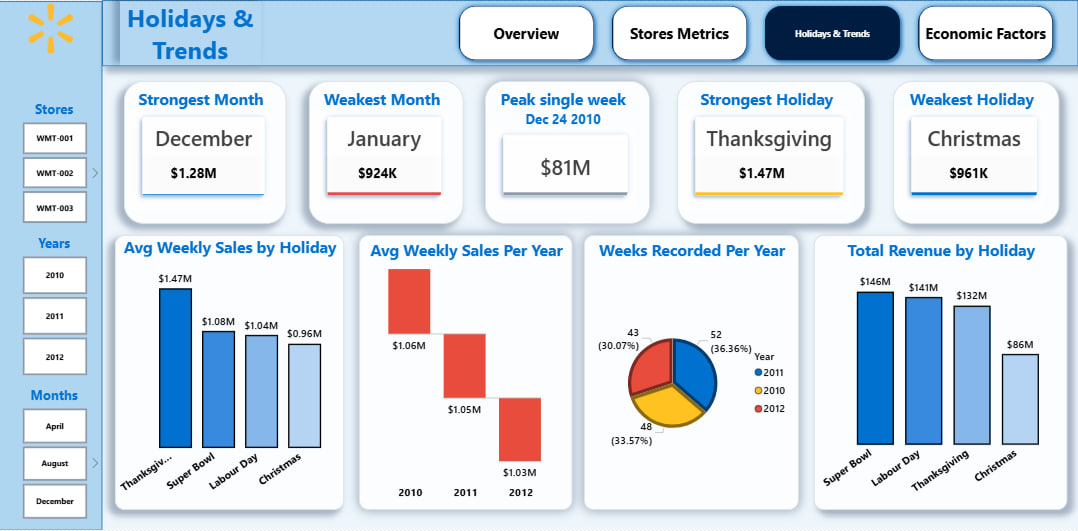

What the dashboard file says about the page in this screenshot:
{"tool":"powerbi","page":{"name":"Holidays & Trends","canvas":[1650,810],"ordinal":2},"visuals":[{"type":"shape","box":[0,1,157.9,809],"z":0},{"type":"shape","title":"Walmart Stores Analytical Dashboard","box":[157.9,0,1492.1,101.1],"z":1000},{"type":"image","box":[0,0,157.9,86.9],"z":2000},{"type":"slicer","title":"Years","fields":{"Values":["Walmart_Sales.Year"]},"box":[0,357.7,158.5,217.5],"z":3000},{"type":"slicer","title":"Months","fields":{"Values":["Calendar.Month_Name"]},"box":[0,589.9,158.5,204.6],"z":4000},{"type":"slicer","title":"Stores","fields":{"Values":["Walmart_Sales.Store_ID"]},"box":[0,153,158.5,189.9],"z":5000},{"type":"pageNavigator","box":[693.7,0,926.1,101.1],"z":6000},{"type":"cardVisual","title":"Strongest Month","fields":{"Data":["Walmart_Sales.Strongest Month"]},"box":[191.6,124.2,248.4,218.2],"z":7000},{"type":"cardVisual","title":"Weakest Month","fields":{"Data":["Walmart_Sales.Weakest Month"]},"box":[473.7,124.2,236,218.2],"z":8000},{"type":"cardVisual","title":"Peak single week","fields":{"Data":["Walmart_Sales.Peak Single Week"]},"box":[743.4,124.2,251.9,218.2],"z":9000},{"type":"cardVisual","title":"Strongest Holiday","fields":{"Data":["Walmart_Sales.Strongest Holiday"]},"box":[1036.1,124.2,287.4,218.2],"z":10000},{"type":"cardVisual","title":"Weakest Holiday","fields":{"Data":["Walmart_Sales.Weakest Holiday"]},"box":[1366.1,124.2,253.7,218.2],"z":11000},{"type":"clusteredColumnChart","title":"Avg Weekly Sales by Holiday","fields":{"Category":["Walmart_Sales.Holiday_Name"],"Y":["Walmart_Sales.Avg Weekly Sales"]},"box":[177.4,358.4,349.5,420.5],"z":12000},{"type":"clusteredColumnChart","title":"Total Revenue by Holiday","fields":{"Category":["Walmart_Sales.Holiday_Name"],"Y":["Walmart_Sales.Total Revenue"]},"box":[1245.5,358.4,386.8,420.5],"z":13000},{"type":"waterfallChart","title":"Avg Weekly Sales Per Year","fields":{"Category":["Walmart_Sales.Year"],"Y":["Walmart_Sales.Avg Weekly Sales"]},"box":[550,358.4,326.5,420.5],"z":14000},{"type":"pieChart","title":"Weeks Recorded Per Year","fields":{"Category":["Walmart_Sales.Year"],"Y":["Count(Walmart_Sales.Date)"]},"box":[894.2,358.4,328.2,420.5],"z":15000},{"type":"textbox","title":"Holidays & Trends","box":[184.5,1.8,214.7,99.4],"z":16000}]}

Visuals, with their boxes in screenshot pixels (x1, y1, x2, y2), scaled from the page's 1650x810 canvas onto the 1078x531 screenshot:
shape: <box>0,1,103,530</box>
"Walmart Stores Analytical Dashboard" shape: <box>103,0,1077,66</box>
image: <box>0,0,103,57</box>
"Years" slicer: <box>0,234,104,377</box>
"Months" slicer: <box>0,387,104,521</box>
"Stores" slicer: <box>0,100,104,225</box>
pageNavigator: <box>453,0,1058,66</box>
"Strongest Month" cardVisual: <box>125,81,287,224</box>
"Weakest Month" cardVisual: <box>309,81,464,224</box>
"Peak single week" cardVisual: <box>486,81,650,224</box>
"Strongest Holiday" cardVisual: <box>677,81,865,224</box>
"Weakest Holiday" cardVisual: <box>893,81,1058,224</box>
"Avg Weekly Sales by Holiday" clusteredColumnChart: <box>116,235,344,511</box>
"Total Revenue by Holiday" clusteredColumnChart: <box>814,235,1066,511</box>
"Avg Weekly Sales Per Year" waterfallChart: <box>359,235,573,511</box>
"Weeks Recorded Per Year" pieChart: <box>584,235,799,511</box>
"Holidays & Trends" textbox: <box>121,1,261,66</box>
